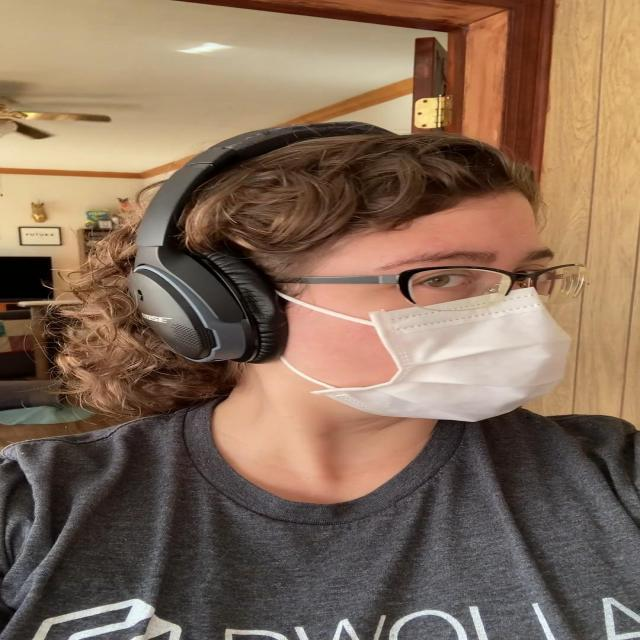no-helmet: (280, 186, 576, 425)
